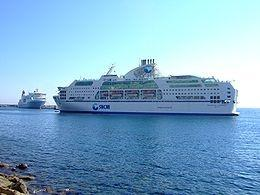youlun: (54, 61, 238, 115), (17, 82, 45, 108)
